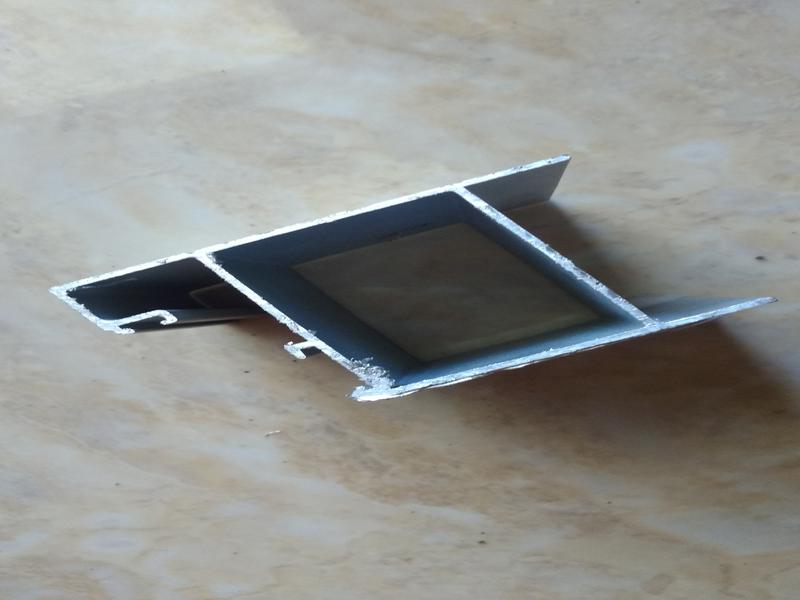Aluminium_2: (30, 139, 796, 466)
